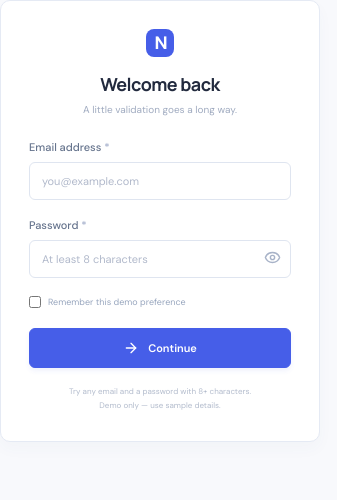
Test: LoginForm › rejects invalid email and a short password
Type "invalid" into the field labelled "Email address *".
click(160, 181); type("invalid")  # box x1=29 y1=162 x2=291 y2=200
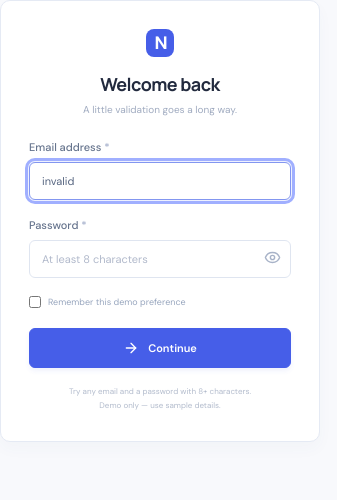
Type "short" into the password field labelled "Password".
click(160, 259); type("short")  # box x1=29 y1=240 x2=291 y2=278
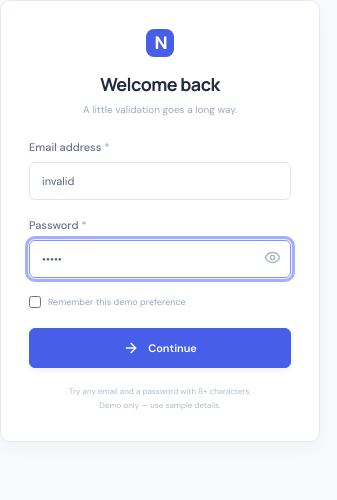
Click the button "Continue".
click(160, 348)  # box x1=29 y1=328 x2=291 y2=368
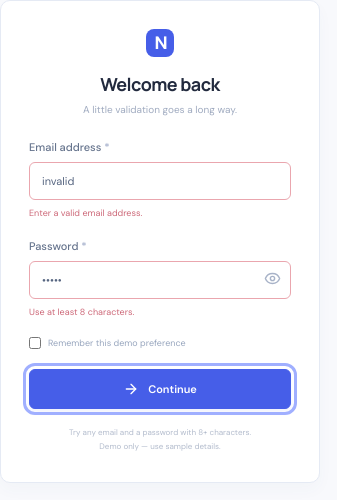
Now the text "Enter a valid email address." is shown, box x1=29 y1=207 x2=142 y2=219
Now the text "Use at least 8 characters." is shown, box x1=29 y1=306 x2=134 y2=318
